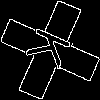K: (25, 25, 81, 74)
